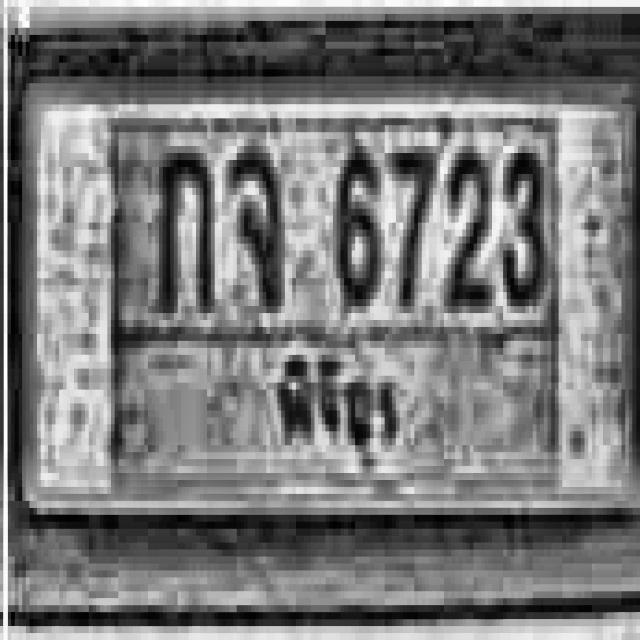license-plate: (17, 45, 640, 527)
